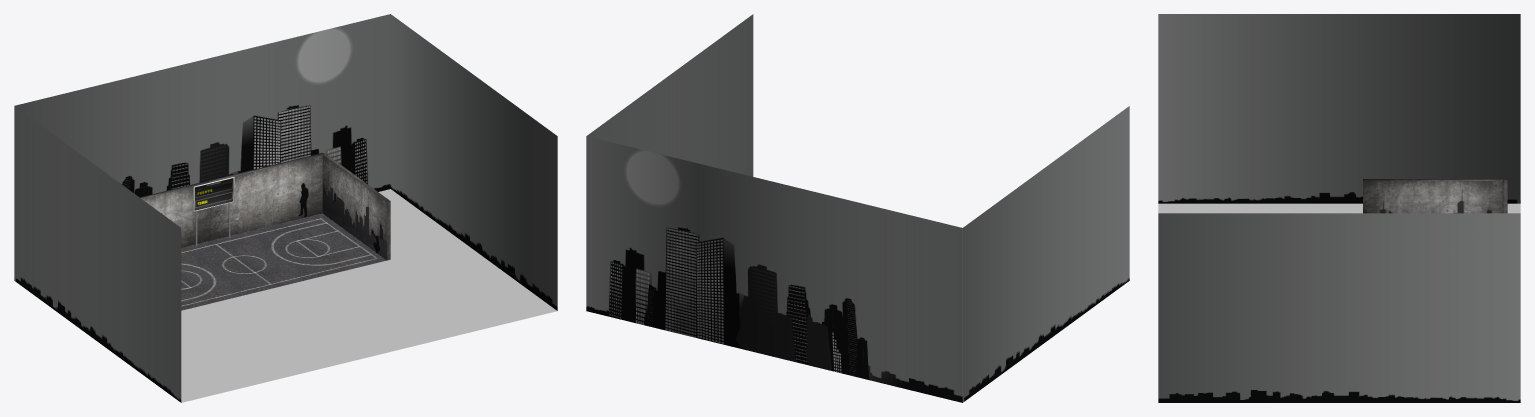
3 renders of one model, left to right at view 1: azimuth 30°, elevation 25°; view 2: azimuth 150°, elevation 25°; view 3: azimuth 270°, elevation 25°, orthographic. The views are drawn at different scales.
Parts seen in each view (by area): view 1: Background, Ground, Wall, Court, Scoreboard; view 2: Background; view 3: Background, Wall, Ground.
Boxes of the visible parts, x1=… form: Background: x1=14, y1=14, x2=557, y2=402; Ground: x1=181, y1=189, x2=557, y2=402; Wall: x1=140, y1=153, x2=390, y2=260; Court: x1=181, y1=213, x2=386, y2=310; Scoreboard: x1=193, y1=177, x2=234, y2=246; Background: x1=586, y1=14, x2=1129, y2=402; Background: x1=1158, y1=14, x2=1520, y2=402; Wall: x1=1363, y1=179, x2=1507, y2=213; Ground: x1=1158, y1=203, x2=1520, y2=213.
Size of the model in its own units: 67.5 by 30 by 51.86.
